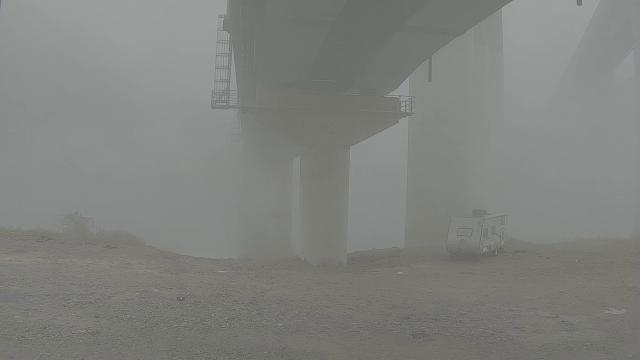smoke: (177, 279, 186, 297)
